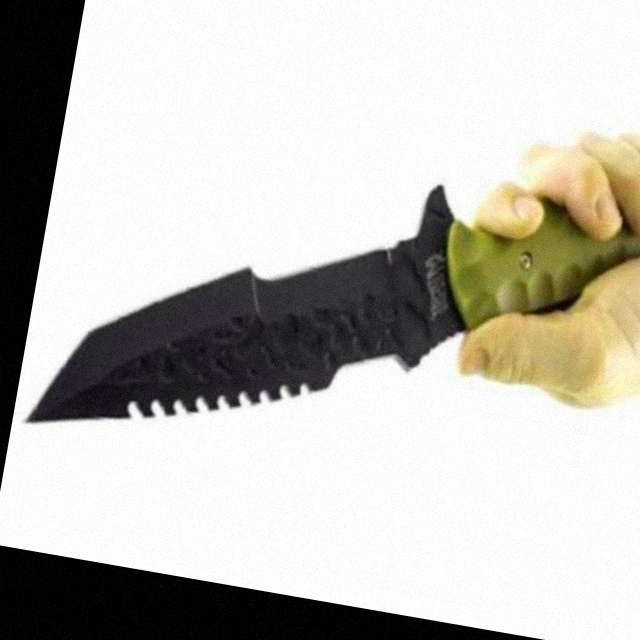Sharp-Object: (26, 23, 640, 530)
